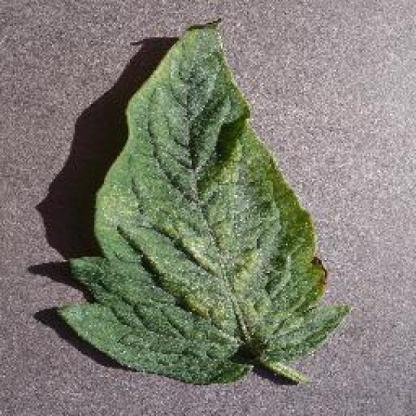Tomato_Spider_Mites: (56, 19, 349, 381)
